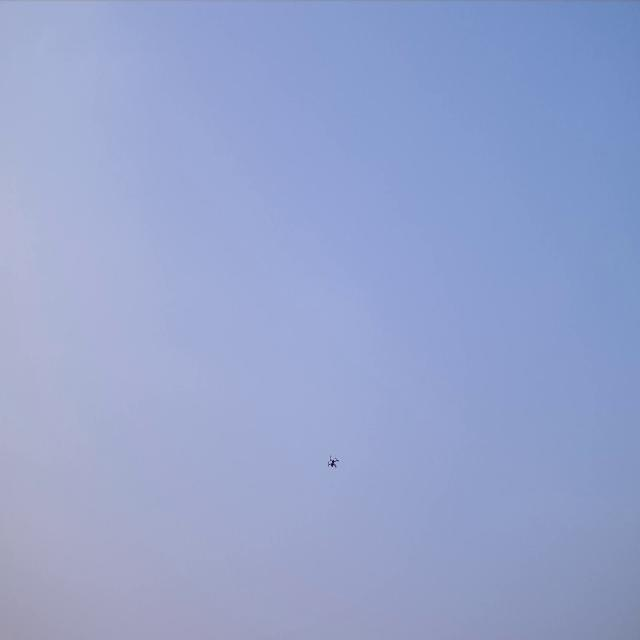UAV: (327, 454, 339, 470)
